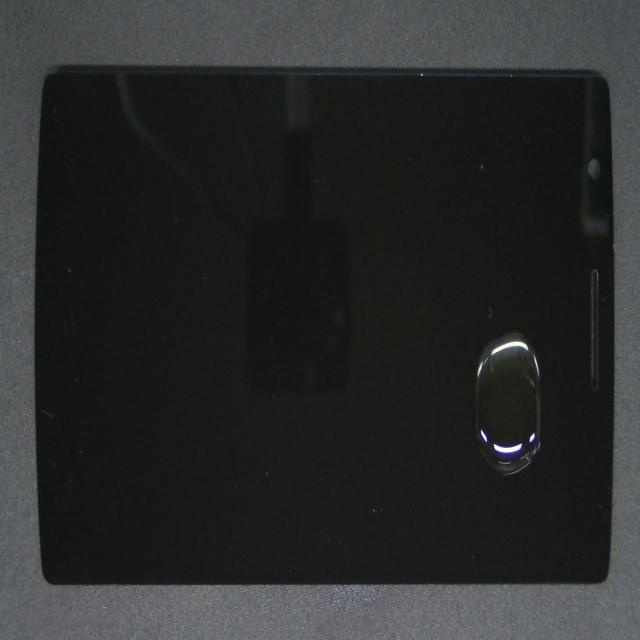oil: (291, 176, 640, 508)
